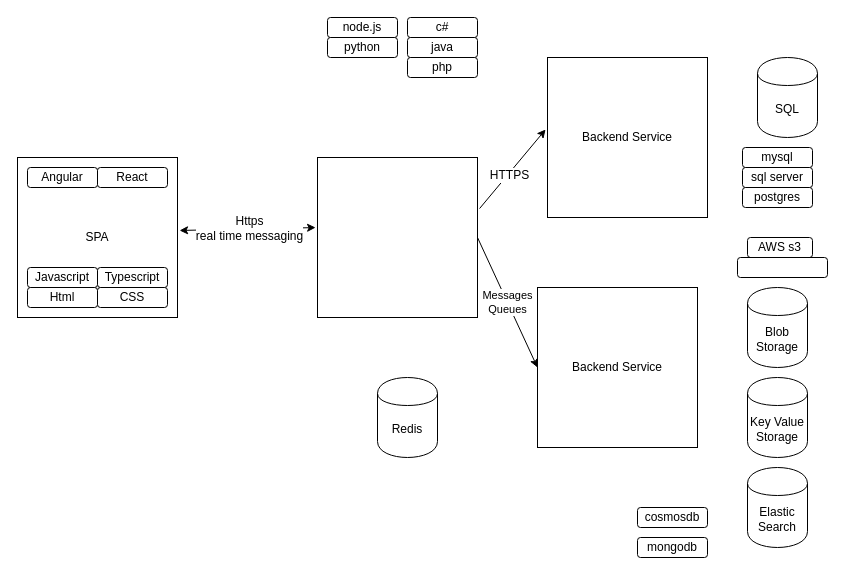
The diagram is 845 pixels wide and 575 high, and some of its shapes have lost their labels. The shapes that lost their labels are listed below. From the top down, each one's centre as x and y in pixels, then its label:
point (397, 237): API
point (782, 267): Azure Storage
